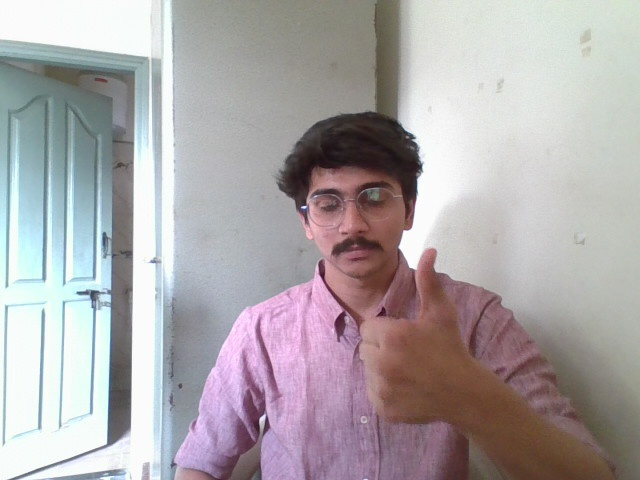done: (358, 237, 472, 425)
